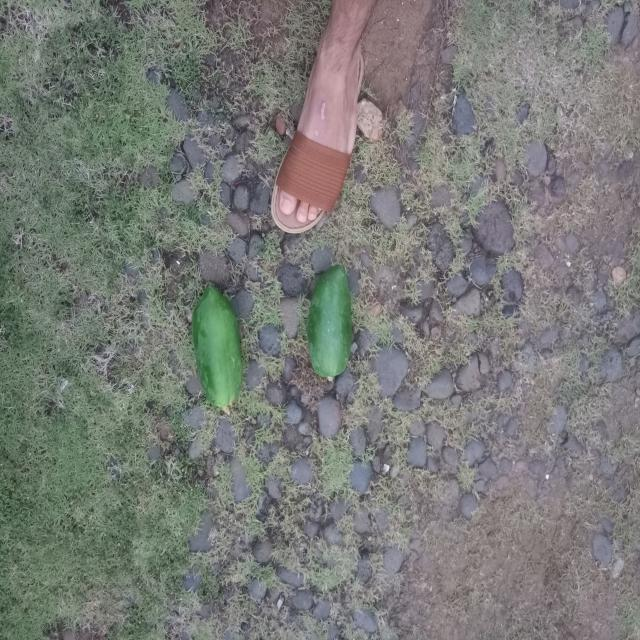Pepaya unrippen: (190, 279, 250, 429), (309, 255, 357, 388)
